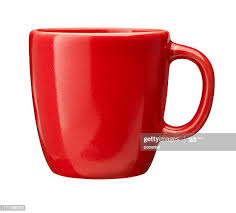cup: (25, 20, 218, 182)
